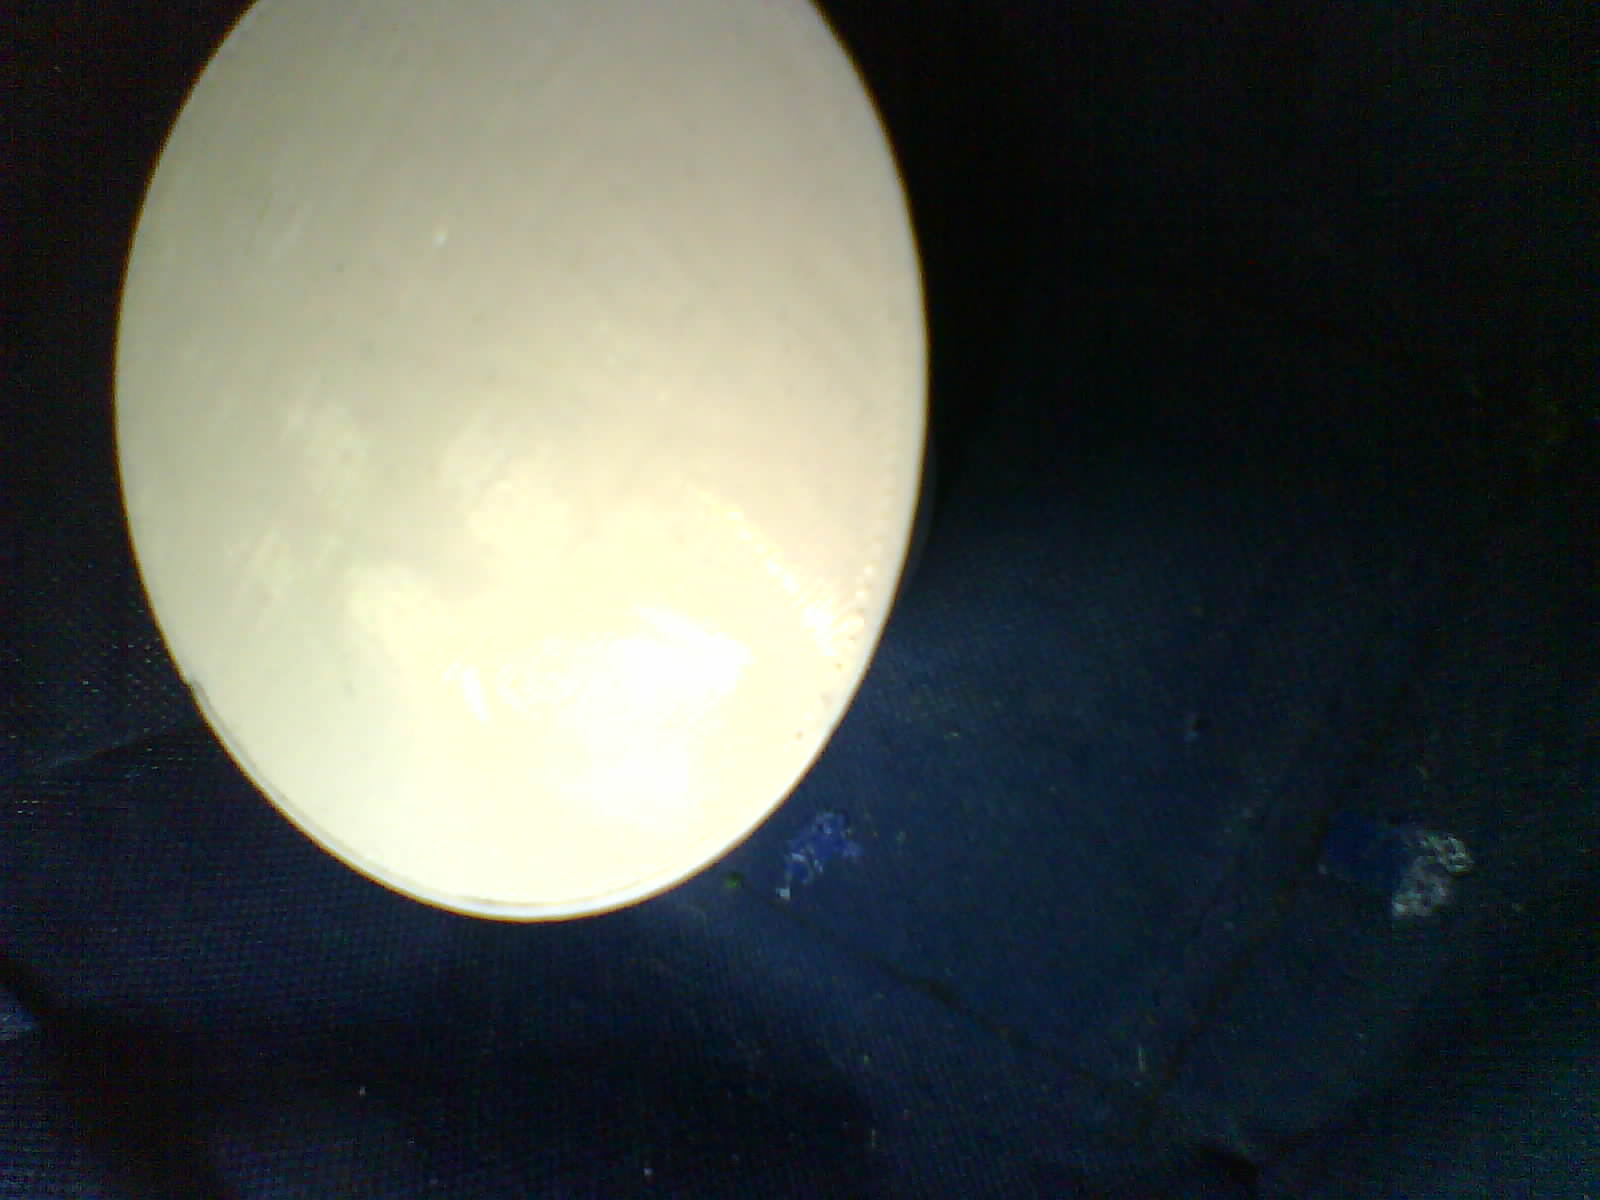cylinder-hard: (93, 0, 950, 943)
